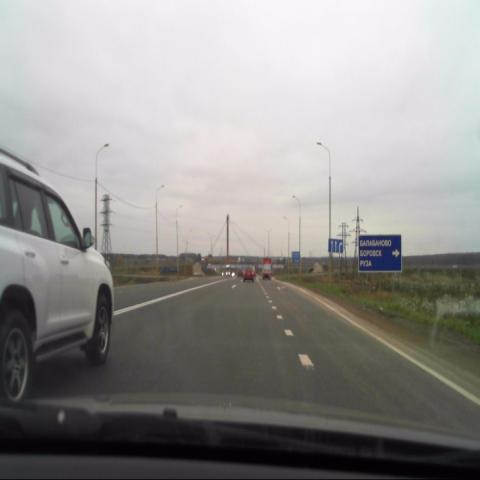5_15_1: (327, 236, 343, 253)
